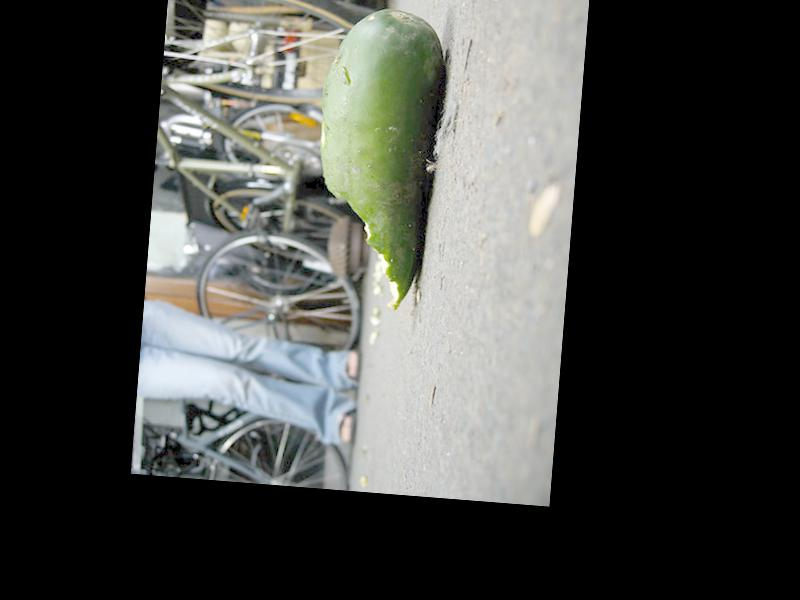Cucumber: (307, 5, 446, 316)
